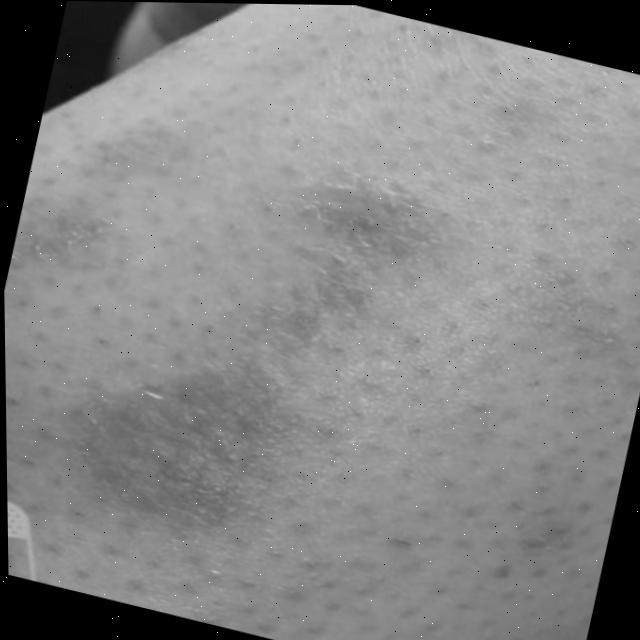Eczema: (85, 152, 422, 540)
